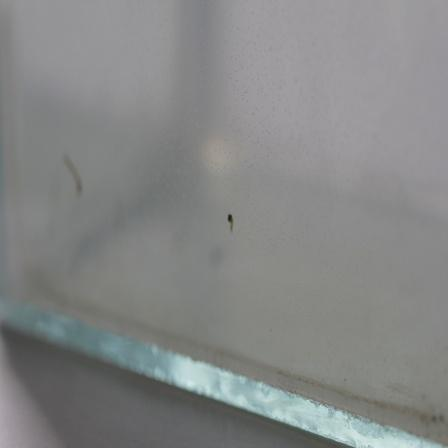Jentik-Nyamuk: (223, 208, 238, 238)
